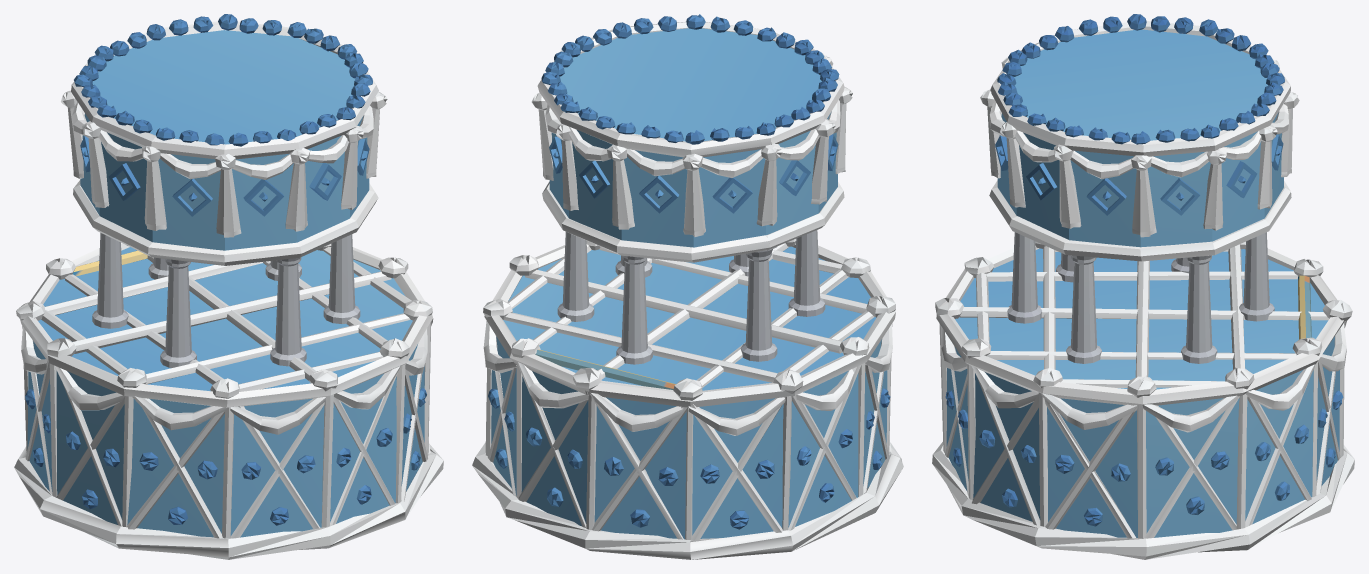
The model's file is PASTEL AZUL.fbx.
3 views of the same model, side by side, from view 1: azimuth 30°, elevation 25°; view 2: azimuth 150°, elevation 25°; view 3: azimuth 270°, elevation 25° (orthographic).
Visible parts, largest first — view 1: pastel 1; view 2: pastel 1; view 3: pastel 1.
Part boxes in pixels (box(x1,y1,x2,y2)): pastel 1: box(14, 14, 443, 559); pastel 1: box(472, 14, 903, 559); pastel 1: box(932, 14, 1354, 559).
Bounding box in the file's own units: 81.73 × 80.95 × 85.14.
Materials: 1 (1 with a texture image).
